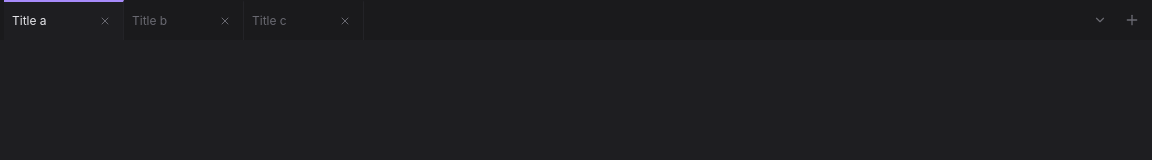
Scenario: <TabStrip /> ghost drag (MTR ghost + dim) › pointerDown + pointerMove past threshold renders tab-drag-ghost
Press the mouse on the text "Title b" at (184, 20), box [124,0,244,40]
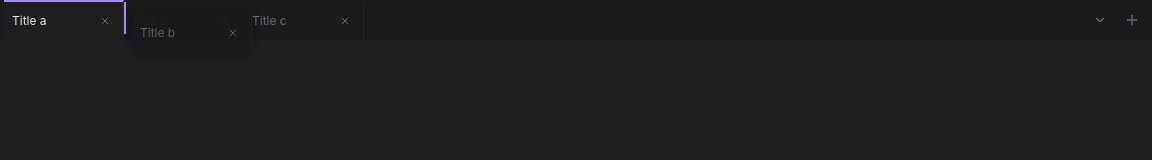
Check: the element with test id "tab-drag-ghost" is shown, box [132,12,252,52]
